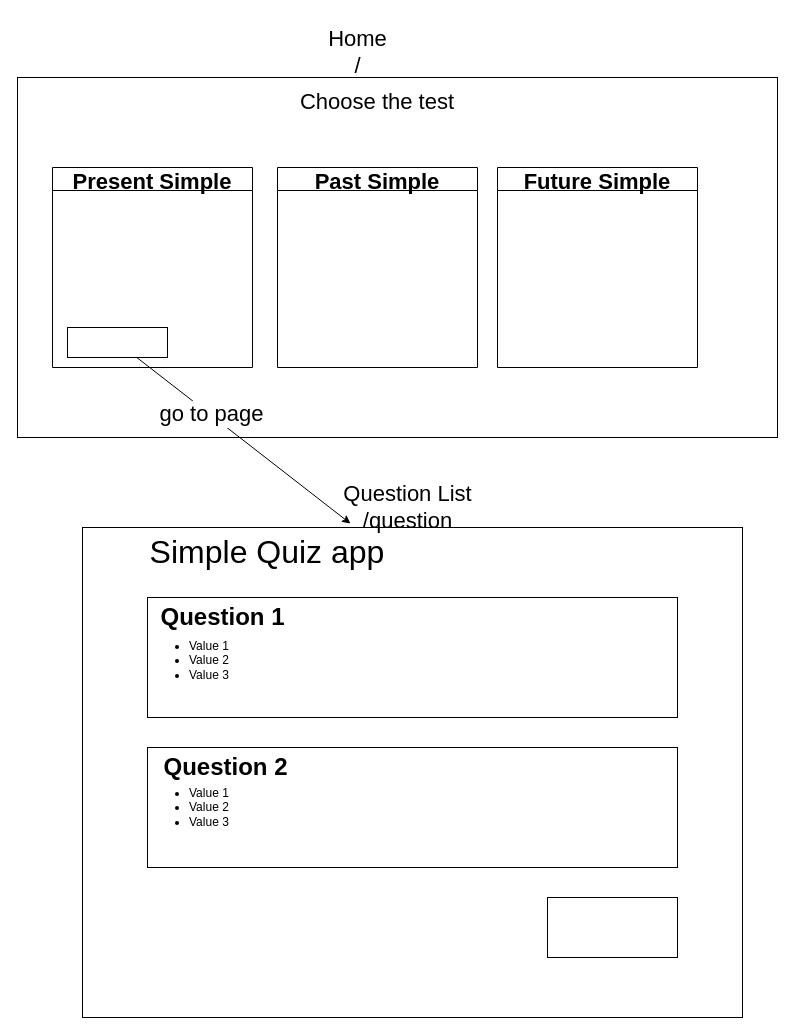
Image size: 795x1035. Some labels were removed from this diagram. Here are the shapes that lost their labels. From the top down, the box of each, then its label:
(66, 326, 168, 358): Start
(546, 896, 678, 958): Test results
